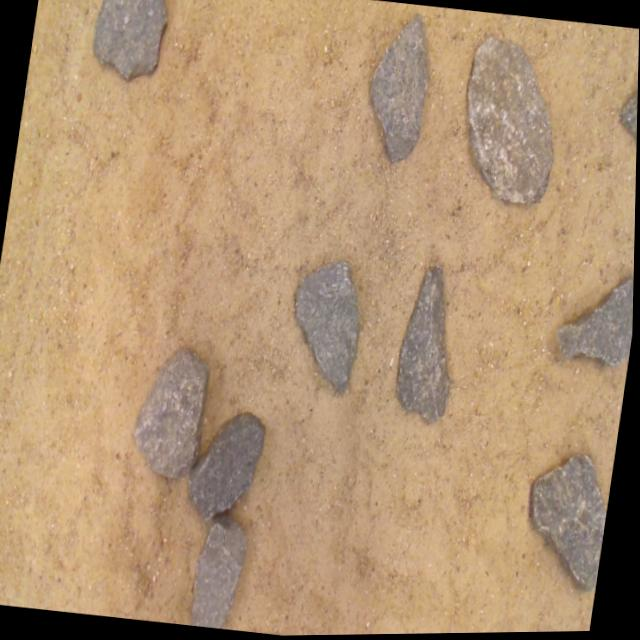rock: (466, 37, 552, 203), (531, 456, 607, 590), (134, 349, 209, 477), (369, 15, 427, 161), (295, 261, 359, 390), (397, 266, 450, 421), (190, 412, 265, 518), (556, 277, 635, 365), (193, 512, 248, 629), (92, 0, 165, 78), (620, 90, 638, 139)
